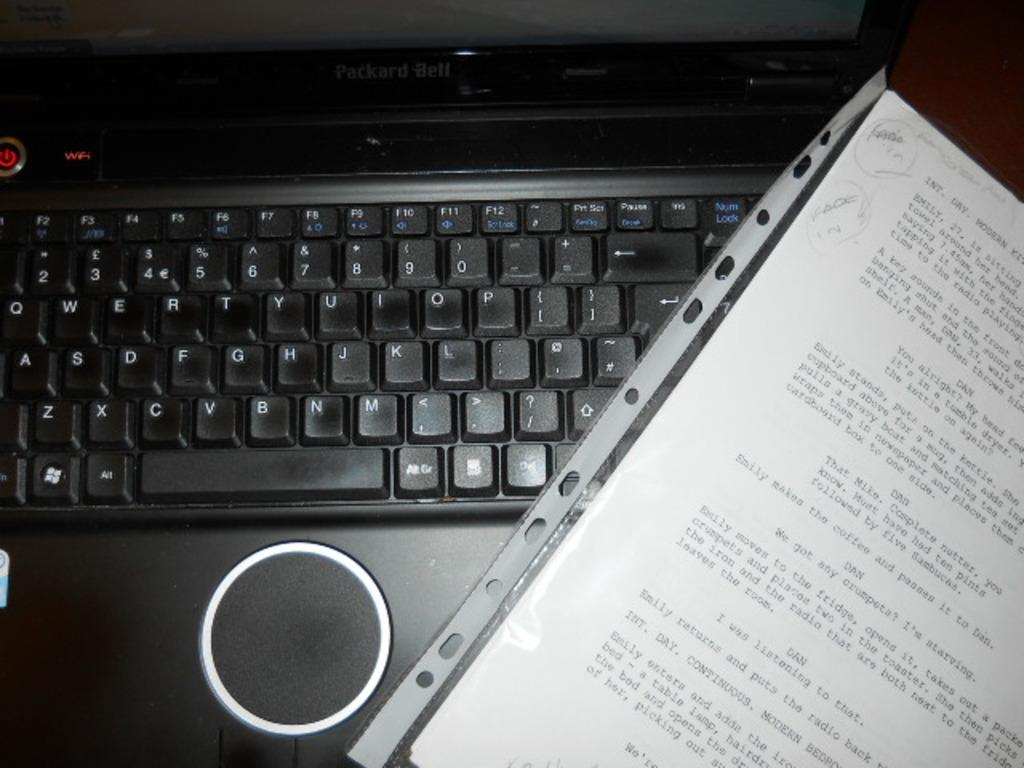Computer-keyboard: (0, 189, 763, 501)
